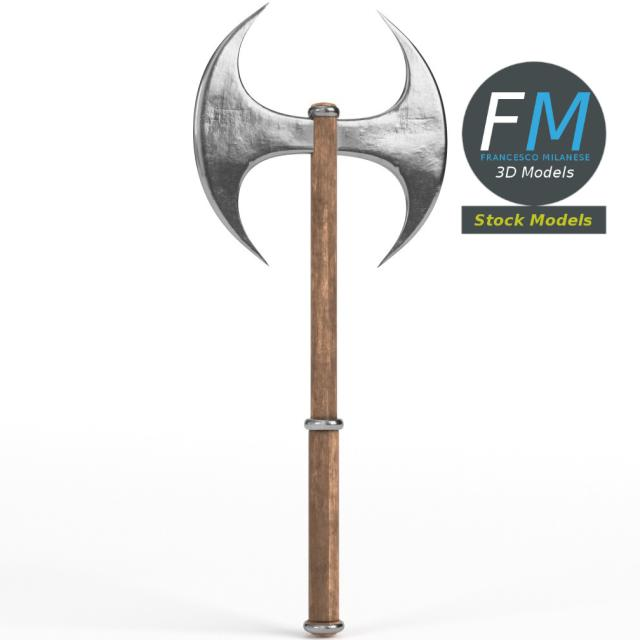Gun: (180, 13, 470, 638)
